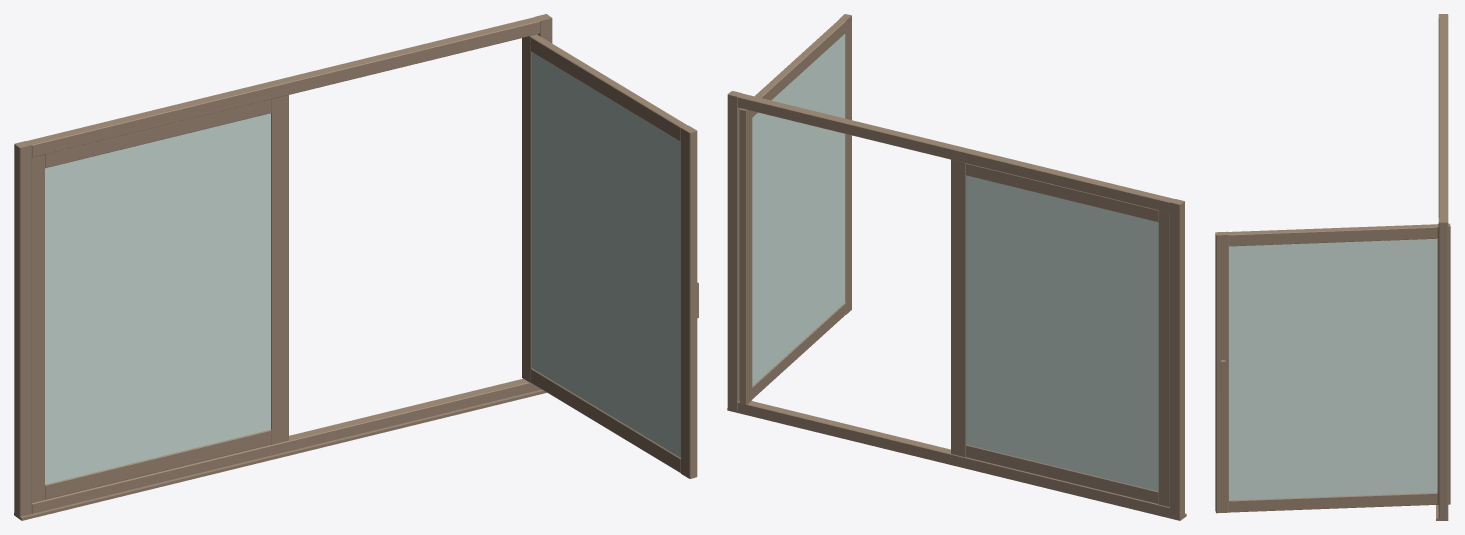
The model's file is bt-S46-2-ouvert-quartz-1019.glb.
The picture shows the model from 3 angles, left to right: view 1: azimuth 30°, elevation 25°; view 2: azimuth 150°, elevation 25°; view 3: azimuth 270°, elevation 25°; orthographic projection. The views are drawn at different scales.
Visible parts, largest first — view 1: verre, structure; view 2: verre, structure; view 3: verre, structure.
Part boxes in pixels (x1,y1,x2,y2): verre: [45, 52, 680, 484]; structure: [14, 14, 698, 520]; verre: [752, 34, 1158, 491]; structure: [727, 14, 1186, 520]; verre: [1229, 238, 1437, 500]; structure: [1215, 14, 1450, 520].
Size of the model in its own units: 2.45 by 1.6 by 1.14.
